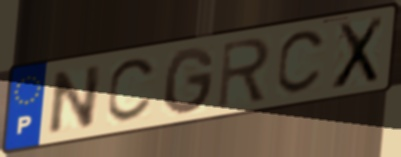C: (274, 27, 330, 98), (104, 55, 160, 126)
G: (162, 45, 217, 117)
N: (44, 62, 105, 139)
R: (215, 35, 273, 112)
X: (329, 13, 387, 93)
